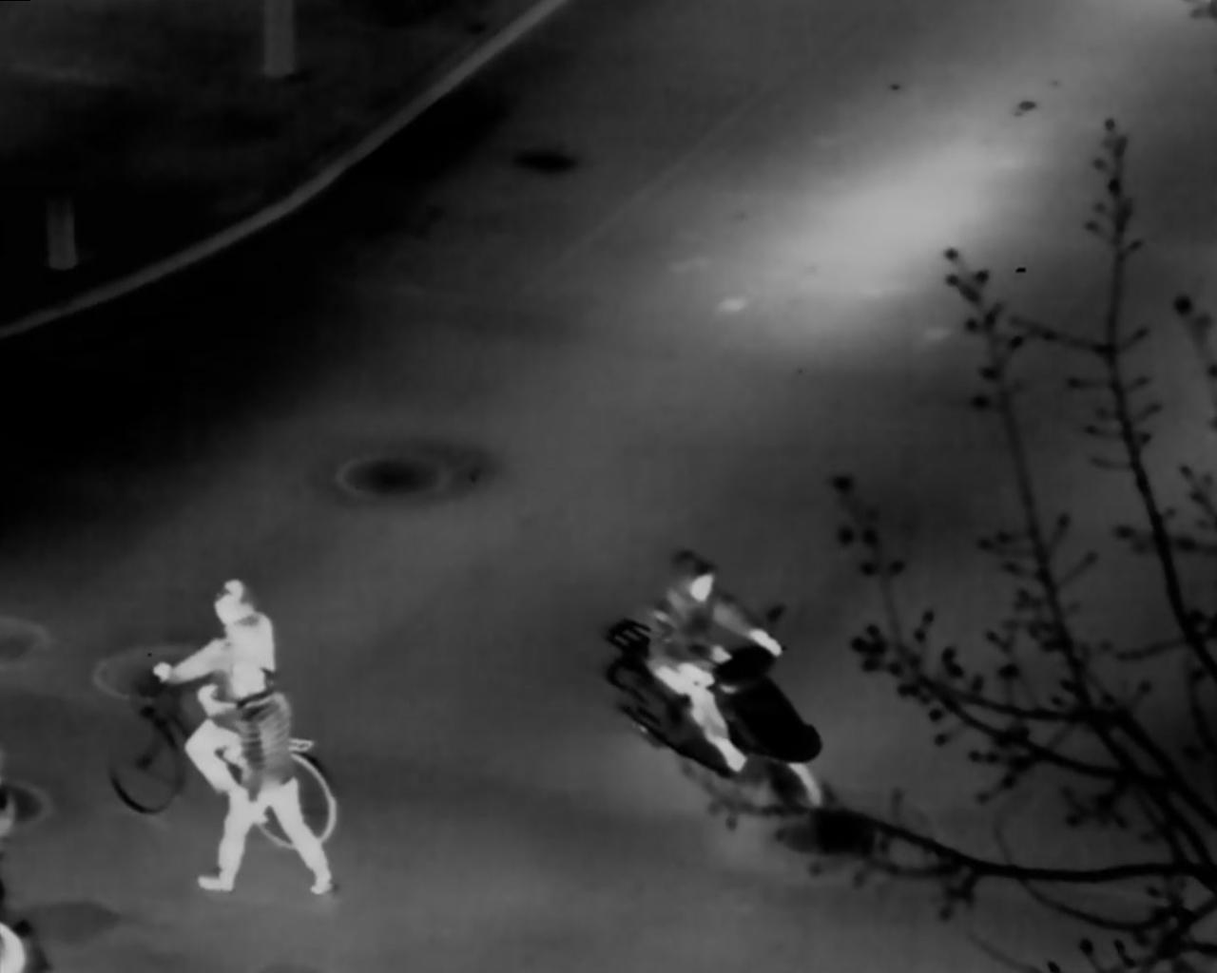person: (195, 657, 336, 896), (644, 545, 782, 772), (154, 579, 276, 803)
